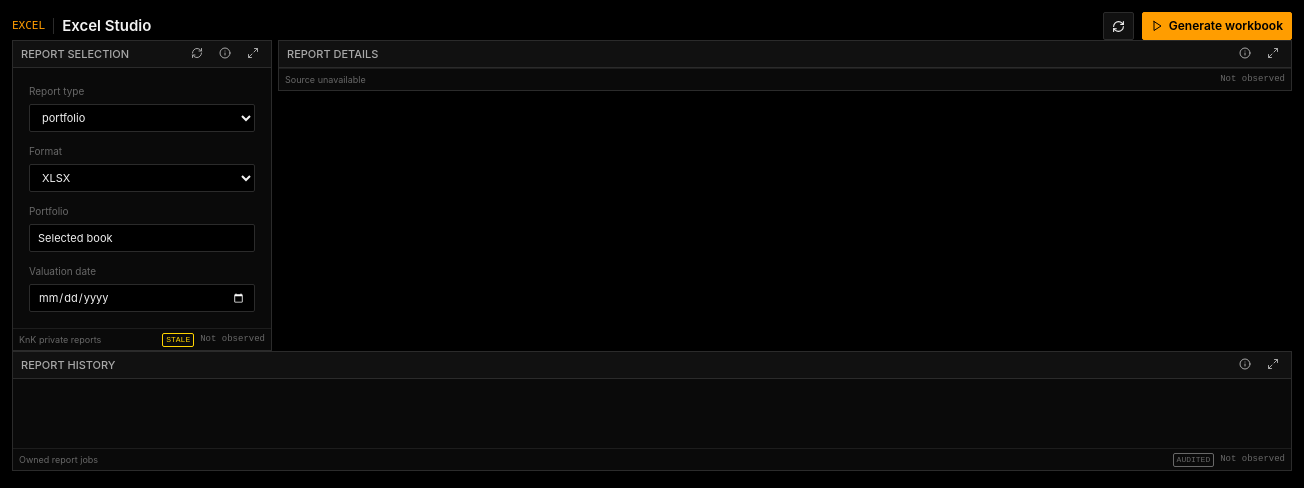
Test: requires a completed analysis selection for backtests
Select "backtest" in the dropdown labelled "Report type" at [142, 118], box left=29, top=104, right=255, bottom=132
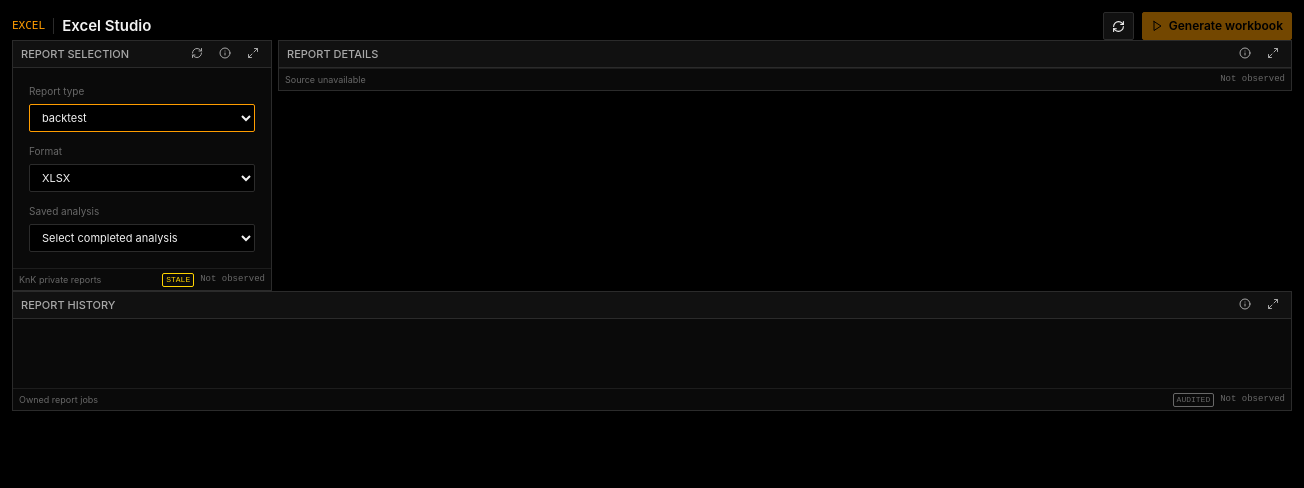
Expected: the button "Generate workbook" is disabled, left=1142, top=12, right=1292, bottom=40
